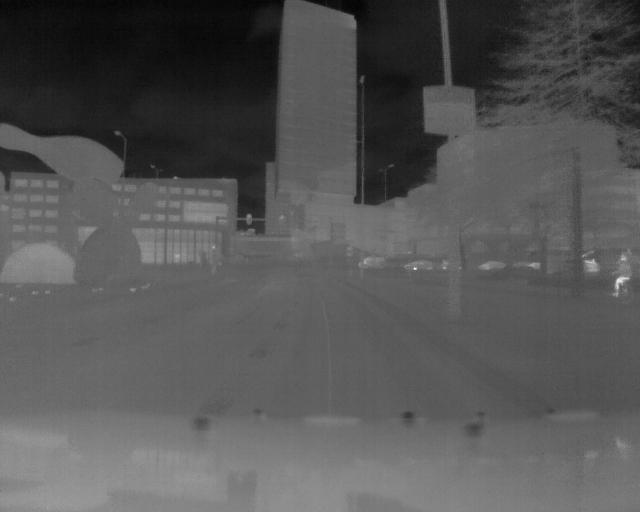car: (404, 257, 437, 273), (358, 254, 390, 270)
person: (609, 255, 631, 305)
